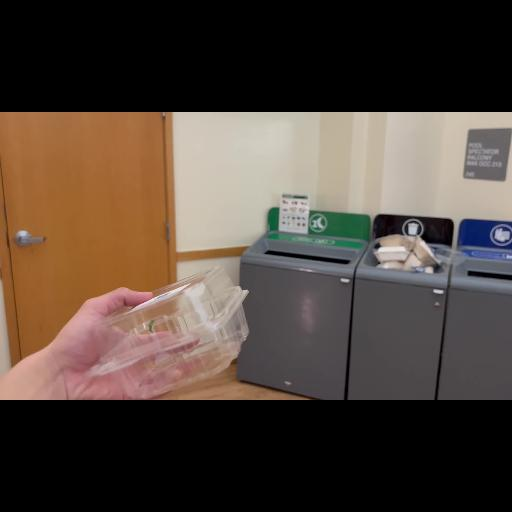small_plastic_container: (81, 262, 251, 400)
